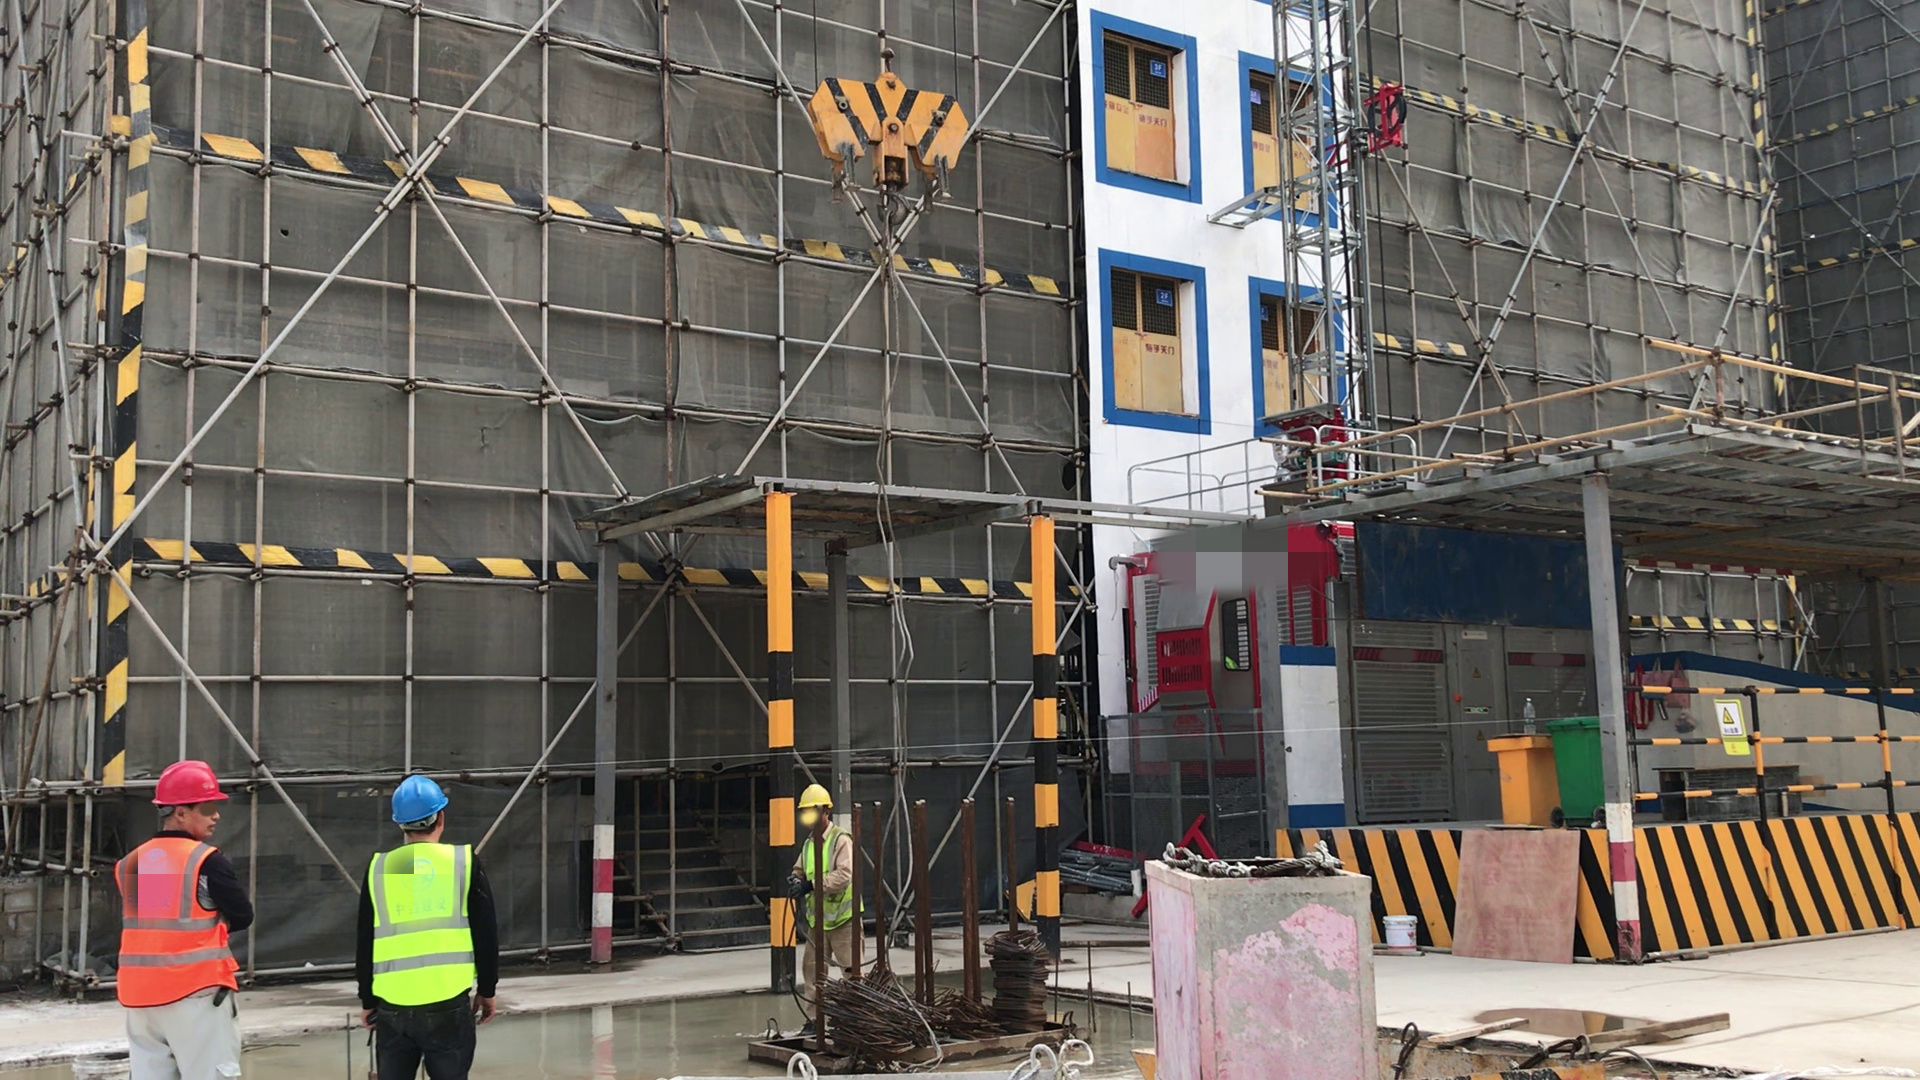helmet: (151, 760, 226, 808), (388, 773, 450, 824), (793, 783, 833, 808)
hook: (809, 72, 972, 223)
person: (108, 761, 263, 1080), (352, 772, 502, 1080), (782, 782, 873, 1031)
slogan: (1713, 696, 1753, 755)
vest: (115, 832, 246, 1008), (367, 843, 480, 1003), (797, 827, 852, 928)
